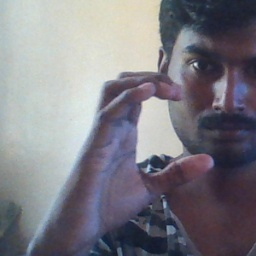C: (91, 68, 218, 202)
